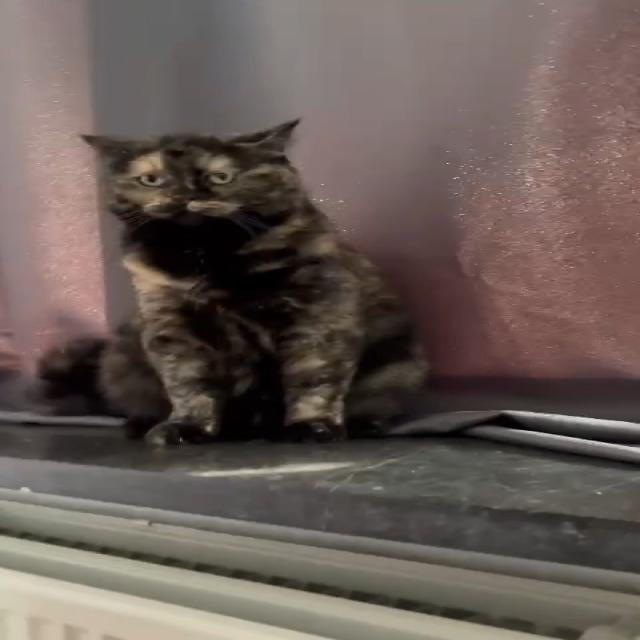authorized: (40, 116, 432, 447)
